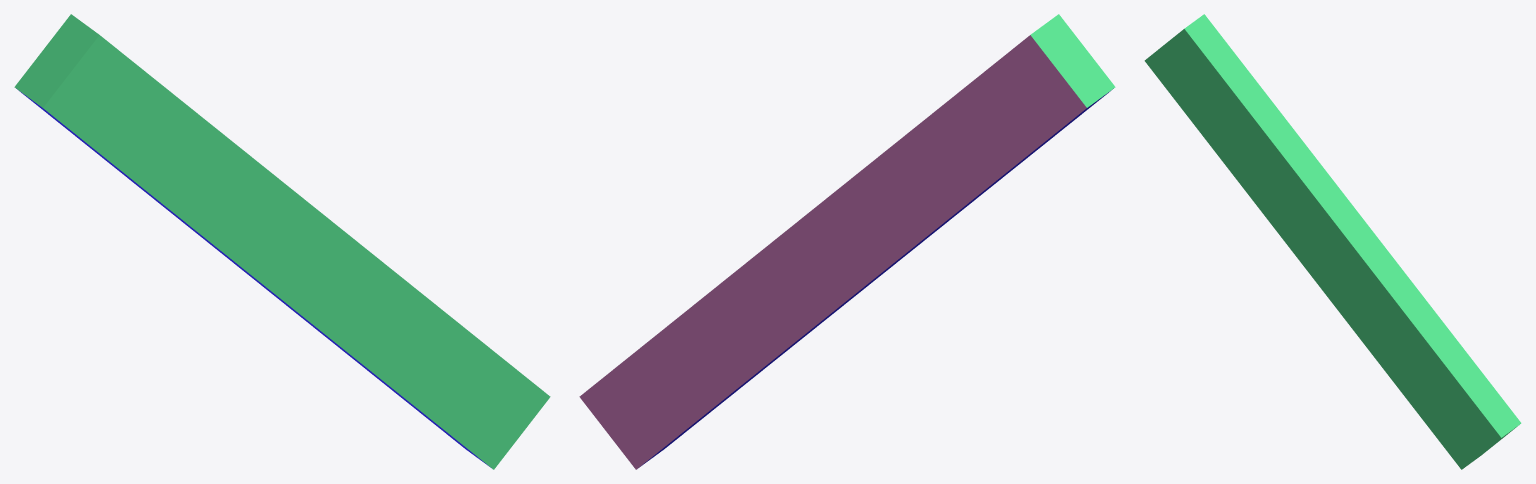
Rendered from rightLine.glb.
The picture shows the model from 3 angles, left to right: view 1: azimuth 30°, elevation 25°; view 2: azimuth 150°, elevation 25°; view 3: azimuth 330°, elevation 25°; orthographic projection. The views are drawn at different scales.
Parts seen in each view (by area): view 1: Cube.018, Cube.020; view 2: Cube.019, Cube.018, Cube.020; view 3: Cube.018.
Part boxes in pixels (bbox=[...]): Cube.018: bbox=[14, 14, 550, 469]; Cube.020: bbox=[16, 88, 490, 467]; Cube.019: bbox=[579, 35, 1086, 469]; Cube.018: bbox=[1030, 14, 1115, 107]; Cube.020: bbox=[639, 88, 1113, 467]; Cube.018: bbox=[1144, 14, 1521, 469].
Bounding box in the file's own units: 2.26 × 2.26 × 0.2201.
